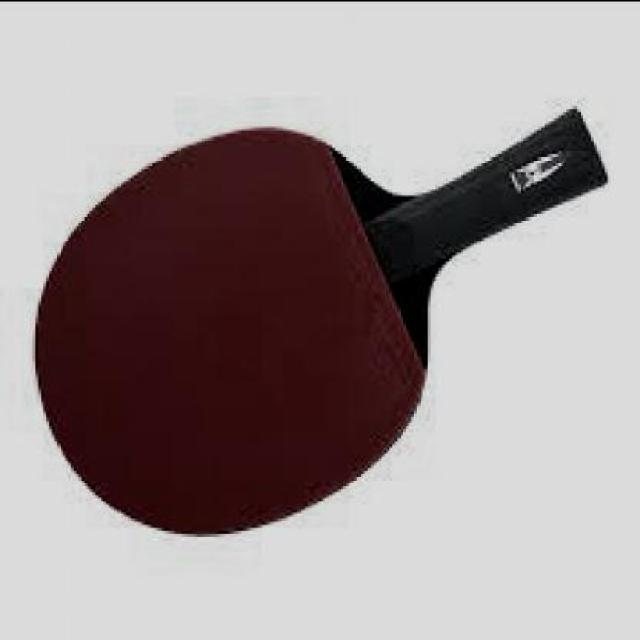table_tennis_racket: (18, 119, 436, 543)
